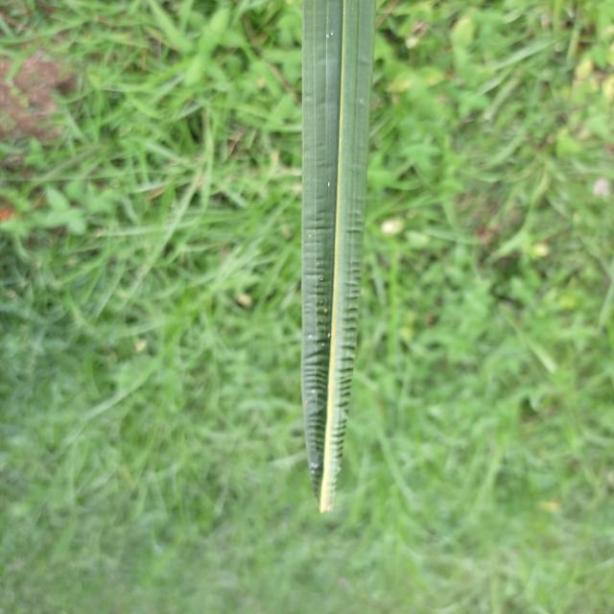Boron: (299, 0, 379, 513)
